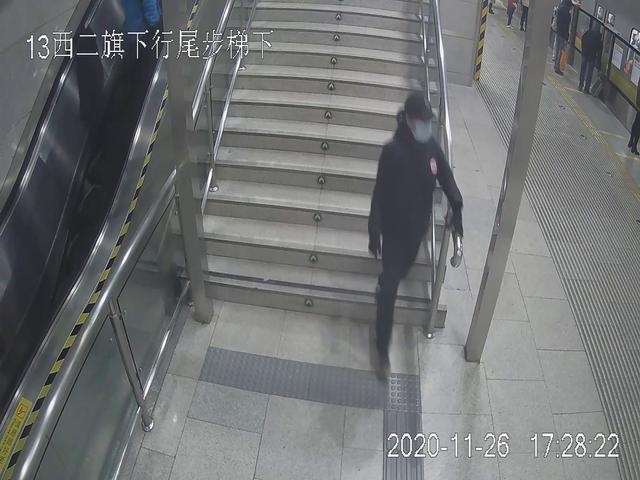person: (359, 86, 468, 375), (579, 11, 606, 92), (553, 1, 575, 77)
